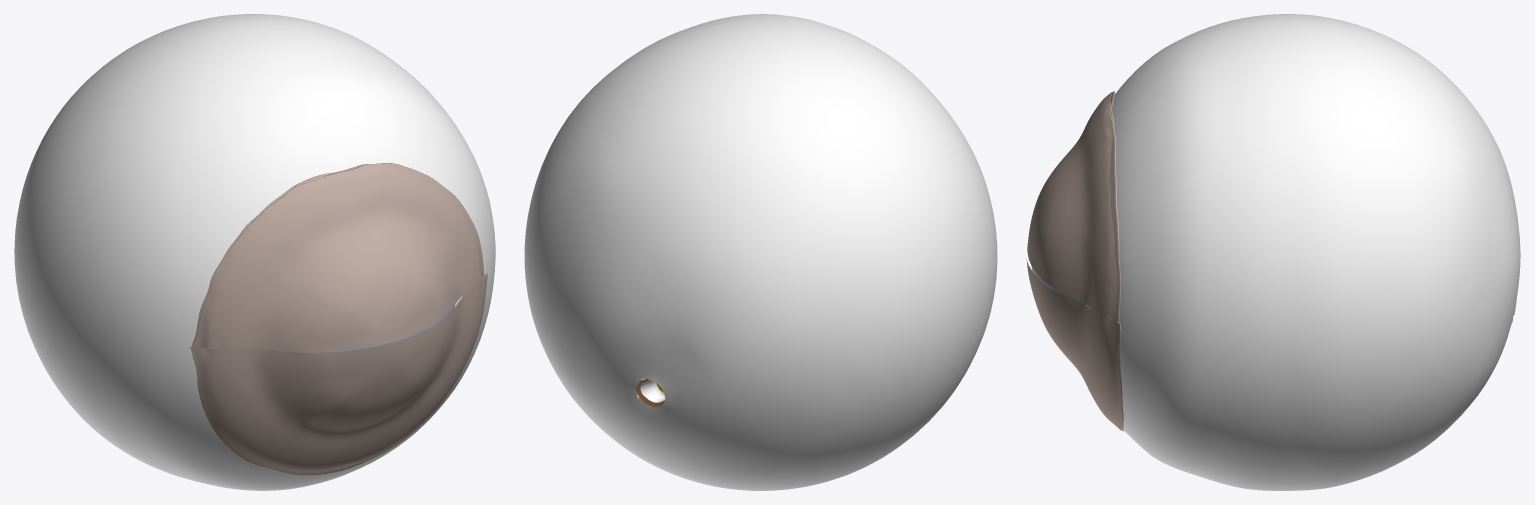
The model's file is VH_F_Eye_R.glb.
3 renders of one model, left to right at view 1: azimuth 30°, elevation 25°; view 2: azimuth 150°, elevation 25°; view 3: azimuth 270°, elevation 25°, orthographic.
Visible parts, largest first — view 1: VH_F_sclera_R, VH_F_palpebral_conjunctiva_of_right_upper_eyelid, VH_F_palpebral_conjunctiva_of_right_lower_eyelid, VH_F_bulbar_conjunctiva_R; view 2: VH_F_sclera_R; view 3: VH_F_sclera_R, VH_F_palpebral_conjunctiva_of_right_upper_eyelid, VH_F_palpebral_conjunctiva_of_right_lower_eyelid, VH_F_bulbar_conjunctiva_R.
Boxes of the visible parts, x1=… form: VH_F_sclera_R: x1=14, y1=14, x2=495, y2=490; VH_F_palpebral_conjunctiva_of_right_upper_eyelid: x1=192, y1=164, x2=484, y2=352; VH_F_palpebral_conjunctiva_of_right_lower_eyelid: x1=188, y1=273, x2=487, y2=475; VH_F_bulbar_conjunctiva_R: x1=192, y1=163, x2=484, y2=474; VH_F_sclera_R: x1=524, y1=14, x2=997, y2=490; VH_F_sclera_R: x1=1087, y1=14, x2=1520, y2=490; VH_F_palpebral_conjunctiva_of_right_upper_eyelid: x1=1027, y1=91, x2=1119, y2=323; VH_F_palpebral_conjunctiva_of_right_lower_eyelid: x1=1026, y1=259, x2=1121, y2=430; VH_F_bulbar_conjunctiva_R: x1=1090, y1=91, x2=1123, y2=431.
Bounding box in the file's own units: 0.0245 × 0.0245 × 0.0254.
